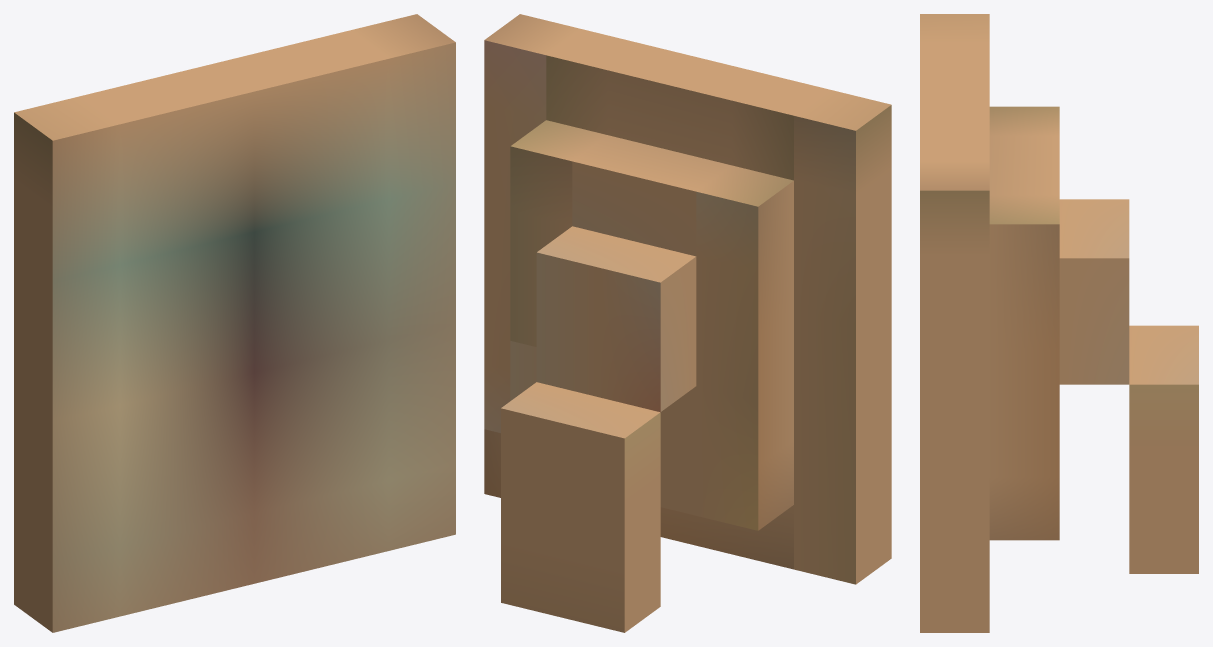
The model's file is PaintingSmallWoodFrame_00.fbx.
The picture shows the model from 3 angles, left to right: view 1: azimuth 30°, elevation 25°; view 2: azimuth 150°, elevation 25°; view 3: azimuth 270°, elevation 25°; orthographic projection. The views are drawn at different scales.
Parts seen in each view (by area): view 1: PaintingSmallWoodFrame_00; view 2: PaintingSmallWoodFrame_00; view 3: PaintingSmallWoodFrame_00.
Boxes of the visible parts, x1=… form: PaintingSmallWoodFrame_00: x1=14, y1=14, x2=455, y2=632; PaintingSmallWoodFrame_00: x1=484, y1=14, x2=891, y2=632; PaintingSmallWoodFrame_00: x1=920, y1=14, x2=1198, y2=632.
Size of the model in its own units: 30 by 20 by 35.
1 material, 1 textured.
